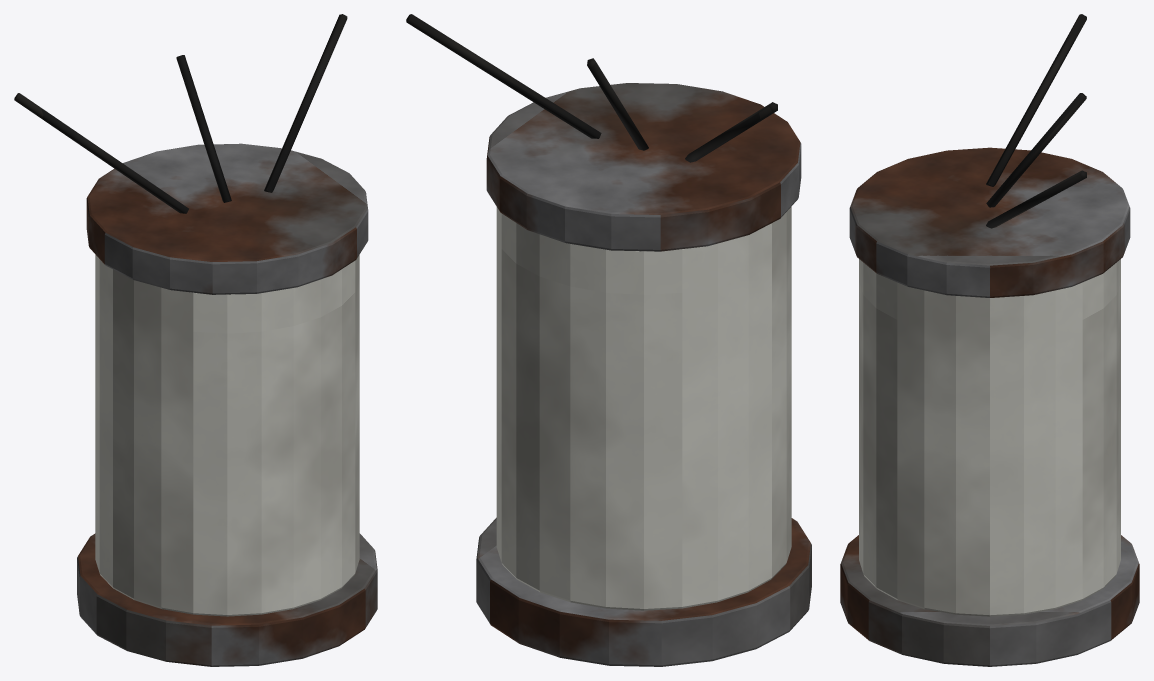
The model's file is Y04_brain_jar_specimen_v2.glb.
3 renders of one model, left to right at view 1: azimuth 30°, elevation 25°; view 2: azimuth 150°, elevation 25°; view 3: azimuth 270°, elevation 25°, orthographic. The views are drawn at different scales.
Visible parts, largest first — view 1: Y04_brain_jar_specimen_v2; view 2: Y04_brain_jar_specimen_v2; view 3: Y04_brain_jar_specimen_v2.
Part boxes in pixels (<box>): Y04_brain_jar_specimen_v2: <box>14,14,377,666</box>; Y04_brain_jar_specimen_v2: <box>406,14,811,666</box>; Y04_brain_jar_specimen_v2: <box>840,14,1139,666</box>.
Bounding box in the file's own units: 0.3371 × 0.5 × 0.2649.
Materials: 4 (4 with a texture image).
